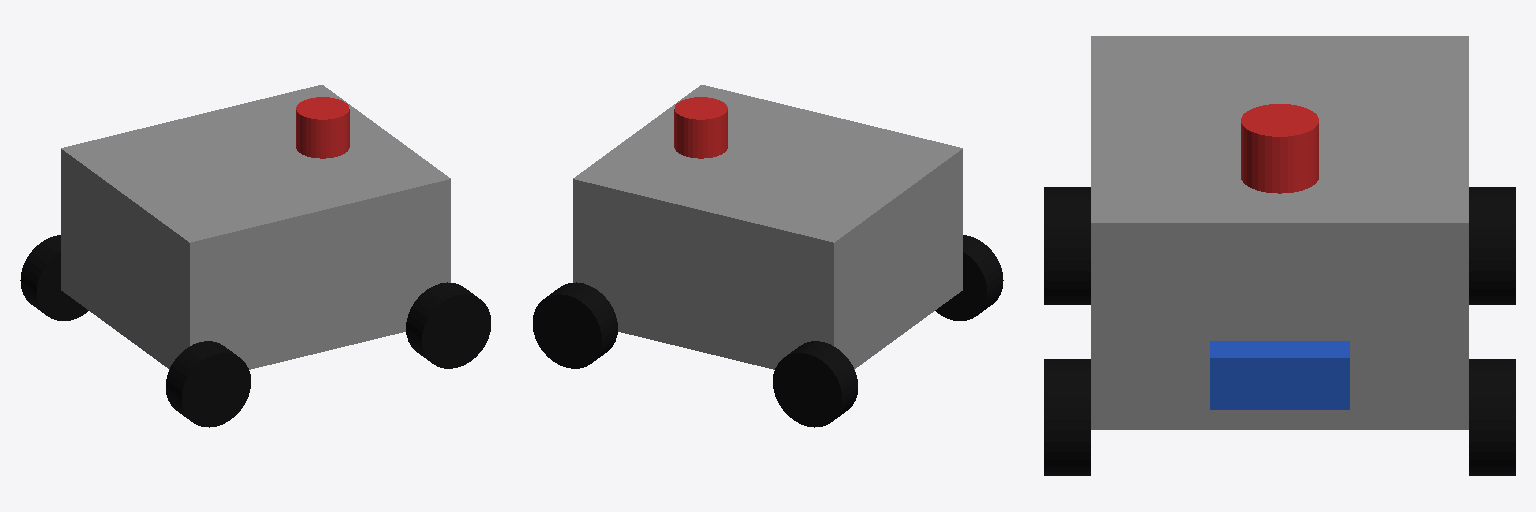
URDF robot description (robotcar):
<?xml version="1.0" encoding="utf-8"?>
<!-- =================================================================================== -->
<!-- |    This document was autogenerated by xacro from robotcar.urdf.xacro            | -->
<!-- |    EDITING THIS FILE BY HAND IS NOT RECOMMENDED                                 | -->
<!-- =================================================================================== -->
<robot name="robotcar">
  <!-- 坐标系由运行时 TF 提供：map->odom 由静态 TF 发布；odom->base_link 由插件发布 -->
  <!-- 虚拟根链接（解决 KDL 警告：根链接不能有惯性参数） -->
  <link name="base_footprint">
    <visual>
      <origin rpy="0 0 0" xyz="0 0 0"/>
      <geometry>
        <box size="0.01 0.01 0.01"/>
      </geometry>
      <material name="Invisible">
        <color rgba="0 0 0 0"/>
      </material>
    </visual>
  </link>
  <!-- 底盘主链接 -->
  <link name="base_link">
    <inertial>
      <mass value="4.4"/>
      <origin xyz="0 0 0.107"/>
      <inertia ixx="0.02" ixy="0.0" ixz="0.0" iyy="0.04" iyz="0.0" izz="0.05"/>
    </inertial>
    <visual>
      <origin rpy="0 0 0" xyz="0 0 0.107"/>
      <geometry>
        <box size="0.282 0.241 0.146"/>
      </geometry>
      <material name="Grey">
        <color rgba="0.6 0.6 0.6 1.0"/>
      </material>
    </visual>
    <collision>
      <origin rpy="0 0 0" xyz="0 0 0.107"/>
      <geometry>
        <box size="0.282 0.241 0.146"/>
      </geometry>
    </collision>
  </link>
  <!-- 固定关节：连接虚拟根链接和底盘主链接 -->
  <joint name="base_footprint_joint" type="fixed">
    <parent link="base_footprint"/>
    <child link="base_link"/>
    <origin rpy="0 0 0" xyz="0 0 0"/>
  </joint>
  <link name="wheel_fl">
    <inertial>
      <mass value="0.2"/>
      <origin xyz="0 0 0"/>
      <inertia ixx="0.001" ixy="0.0" ixz="0.0" iyy="0.0015" iyz="0.0" izz="0.001"/>
    </inertial>
    <visual>
      <origin rpy="1.5708 0 0" xyz="0 0 0"/>
      <geometry>
        <cylinder length="0.03" radius="0.0375"/>
      </geometry>
      <material name="Black">
        <color rgba="0.1 0.1 0.1 1.0"/>
      </material>
    </visual>
    <collision>
      <origin rpy="1.5708 0 0" xyz="0 0 0"/>
      <geometry>
        <cylinder length="0.03" radius="0.0375"/>
      </geometry>
    </collision>
  </link>
  <gazebo reference="wheel_fl">
    <mu1>0.0</mu1>
    <mu2>0.0</mu2>
  </gazebo>
  <joint name="wheel_fl_joint" type="continuous">
    <parent link="base_link"/>
    <child link="wheel_fl"/>
    <origin rpy="0 0 0" xyz="0.1295 0.1355 0.0375"/>
    <axis xyz="0 1 0"/>
  </joint>
  <link name="wheel_fr">
    <inertial>
      <mass value="0.2"/>
      <origin xyz="0 0 0"/>
      <inertia ixx="0.001" ixy="0.0" ixz="0.0" iyy="0.0015" iyz="0.0" izz="0.001"/>
    </inertial>
    <visual>
      <origin rpy="1.5708 0 0" xyz="0 0 0"/>
      <geometry>
        <cylinder length="0.03" radius="0.0375"/>
      </geometry>
      <material name="Black">
        <color rgba="0.1 0.1 0.1 1.0"/>
      </material>
    </visual>
    <collision>
      <origin rpy="1.5708 0 0" xyz="0 0 0"/>
      <geometry>
        <cylinder length="0.03" radius="0.0375"/>
      </geometry>
    </collision>
  </link>
  <gazebo reference="wheel_fr">
    <mu1>0.0</mu1>
    <mu2>0.0</mu2>
  </gazebo>
  <joint name="wheel_fr_joint" type="continuous">
    <parent link="base_link"/>
    <child link="wheel_fr"/>
    <origin rpy="0 0 0" xyz="0.1295 -0.1355 0.0375"/>
    <axis xyz="0 1 0"/>
  </joint>
  <link name="wheel_rl">
    <inertial>
      <mass value="0.2"/>
      <origin xyz="0 0 0"/>
      <inertia ixx="0.001" ixy="0.0" ixz="0.0" iyy="0.0015" iyz="0.0" izz="0.001"/>
    </inertial>
    <visual>
      <origin rpy="1.5708 0 0" xyz="0 0 0"/>
      <geometry>
        <cylinder length="0.03" radius="0.0375"/>
      </geometry>
      <material name="Black">
        <color rgba="0.1 0.1 0.1 1.0"/>
      </material>
    </visual>
    <collision>
      <origin rpy="1.5708 0 0" xyz="0 0 0"/>
      <geometry>
        <cylinder length="0.03" radius="0.0375"/>
      </geometry>
    </collision>
  </link>
  <gazebo reference="wheel_rl">
    <mu1>0.0</mu1>
    <mu2>0.0</mu2>
  </gazebo>
  <joint name="wheel_rl_joint" type="continuous">
    <parent link="base_link"/>
    <child link="wheel_rl"/>
    <origin rpy="0 0 0" xyz="-0.1295 0.1355 0.0375"/>
    <axis xyz="0 1 0"/>
  </joint>
  <link name="wheel_rr">
    <inertial>
      <mass value="0.2"/>
      <origin xyz="0 0 0"/>
      <inertia ixx="0.001" ixy="0.0" ixz="0.0" iyy="0.0015" iyz="0.0" izz="0.001"/>
    </inertial>
    <visual>
      <origin rpy="1.5708 0 0" xyz="0 0 0"/>
      <geometry>
        <cylinder length="0.03" radius="0.0375"/>
      </geometry>
      <material name="Black">
        <color rgba="0.1 0.1 0.1 1.0"/>
      </material>
    </visual>
    <collision>
      <origin rpy="1.5708 0 0" xyz="0 0 0"/>
      <geometry>
        <cylinder length="0.03" radius="0.0375"/>
      </geometry>
    </collision>
  </link>
  <gazebo reference="wheel_rr">
    <mu1>0.0</mu1>
    <mu2>0.0</mu2>
  </gazebo>
  <joint name="wheel_rr_joint" type="continuous">
    <parent link="base_link"/>
    <child link="wheel_rr"/>
    <origin rpy="0 0 0" xyz="-0.1295 -0.1355 0.0375"/>
    <axis xyz="0 1 0"/>
  </joint>
  <!-- 相机（深度相机：单目结构光，使用 gazebo 深度相机插件模拟） -->
  <link name="camera_link">
    <visual>
      <origin xyz="0 0 0"/>
      <geometry>
        <box size="0.025 0.09 0.037"/>
      </geometry>
      <material name="Blue">
        <color rgba="0.2 0.4 0.8 1.0"/>
      </material>
    </visual>
  </link>
  <joint name="camera_joint" type="fixed">
    <parent link="base_link"/>
    <!-- 相机不被机身遮挡：中心相对前缘内缩 camera_length/2 -->
    <origin rpy="0 0 0" xyz="0.1545 0 0.0785"/>
    <child link="camera_link"/>
  </joint>
  <!-- 雷达（360°，位于顶部，距前端 lidar_offset_from_front） -->
  <link name="lidar_link">
    <visual>
      <origin xyz="0 0 0"/>
      <geometry>
        <cylinder length="0.04" radius="0.025"/>
      </geometry>
      <material name="Red">
        <color rgba="0.8 0.2 0.2 1.0"/>
      </material>
    </visual>
  </link>
  <joint name="lidar_joint" type="fixed">
    <parent link="base_link"/>
    <!-- 雷达位于顶部，沿前端向内偏置 lidar_offset_from_front -->
    <origin rpy="0 0 0" xyz="0.072 0 0.2"/>
    <child link="lidar_link"/>
  </joint>
  <!-- Gazebo 材质与传感器、控制插件 -->
  <gazebo reference="base_link">
    <material>Gazebo/Grey</material>
    <turnGravityOff>false</turnGravityOff>
  </gazebo>
  <!-- 激光雷达插件（360°, 10m, 5-12Hz，角分辨率约 0.5°） -->
  <gazebo reference="lidar_link">
    <sensor name="lidar" type="gpu_ray">
      <always_on>true</always_on>
      <update_rate>10</update_rate>
      <visualize>false</visualize>
      <ray>
        <scan>
          <horizontal>
            <samples>720</samples>
            <resolution>1</resolution>
            <min_angle>-3.14159</min_angle>
            <max_angle>3.14159</max_angle>
          </horizontal>
        </scan>
        <range>
          <min>0.06</min>
          <max>10.0</max>
          <resolution>0.01</resolution>
        </range>
      </ray>
      <plugin filename="libgazebo_ros_gpu_laser.so" name="gazebo_ros_laser_controller">
        <topicName>/scan</topicName>
        <frameName>lidar_link</frameName>
      </plugin>
    </sensor>
  </gazebo>
  <!-- RGB相机（用于可视化视锥） -->
  <gazebo reference="camera_link">
    <sensor name="rgb_camera" type="camera">
      <always_on>true</always_on>
      <update_rate>15</update_rate>
      <visualize>true</visualize>
      <camera>
        <horizontal_fov>2.094</horizontal_fov>
        <image>
          <width>640</width>
          <height>480</height>
          <format>R8G8B8</format>
        </image>
        <clip>
          <near>0.001</near>
          <far>8.0</far>
        </clip>
      </camera>
      <plugin filename="libgazebo_ros_camera.so" name="rgb_camera_controller">
        <alwaysOn>true</alwaysOn>
        <updateRate>15.0</updateRate>
        <cameraName>rgb_camera</cameraName>
        <frameName>camera_link</frameName>
        <imageTopicName>/camera/rgb/image_raw</imageTopicName>
        <cameraInfoTopicName>/camera/rgb/camera_info</cameraInfoTopicName>
      </plugin>
    </sensor>
  </gazebo>
  <!-- 平面移动插件，直接控制底盘实现全向运动 -->
  <gazebo>
    <plugin filename="libgazebo_ros_planar_move.so" name="planar_move">
      <robotNamespace>/</robotNamespace>
      <commandTopic>cmd_vel</commandTopic>
      <cmdTimeout>0.5</cmdTimeout>
      <odometryTopic>odom</odometryTopic>
      <odometryFrame>odom</odometryFrame>
      <robotBaseFrame>base_footprint</robotBaseFrame>
      <publishTf>true</publishTf>
      <odometryRate>20.0</odometryRate>
      <maxVelX>0.6</maxVelX>
      <maxVelY>0.6</maxVelY>
      <maxVelTheta>2.0</maxVelTheta>
    </plugin>
  </gazebo>
</robot>

--- What the picture shows (computed from the rendered views, not written in the file) ---
The picture shows the robot from 3 angles, left to right: view 1: azimuth 30°, elevation 25°; view 2: azimuth 150°, elevation 25°; view 3: azimuth 270°, elevation 25°; orthographic projection.
Robot: robotcar — 8 links, 7 joints (4 continuous, 3 fixed); root link base_footprint; default pose: every joint at zero.
Links seen in each view (by area): view 1: base_link, wheel_rr, wheel_fr, wheel_rl, lidar_link; view 2: base_link, wheel_rl, wheel_fl, wheel_rr, lidar_link; view 3: base_link, camera_link, lidar_link, wheel_rl, wheel_rr, wheel_fl, wheel_fr.
Link boxes in pixels (x1,y1,x2,y2): base_link: (61, 85, 450, 369); wheel_rr: (166, 341, 250, 427); wheel_fr: (406, 282, 490, 368); wheel_rl: (20, 235, 88, 320); lidar_link: (296, 97, 349, 158); base_link: (573, 85, 962, 369); wheel_rl: (773, 341, 857, 427); wheel_fl: (533, 282, 617, 368); wheel_rr: (935, 235, 1003, 320); lidar_link: (674, 97, 727, 158); base_link: (1091, 36, 1468, 429); camera_link: (1210, 341, 1349, 409); lidar_link: (1241, 104, 1318, 193); wheel_rl: (1469, 187, 1515, 304); wheel_rr: (1044, 187, 1090, 304); wheel_fl: (1469, 359, 1515, 475); wheel_fr: (1044, 359, 1090, 475).
Bounding box of the posed robot: 0.334 × 0.301 × 0.225 m (x, y, z).
Geometry: primitives only (box / cylinder / sphere), no mesh files.
